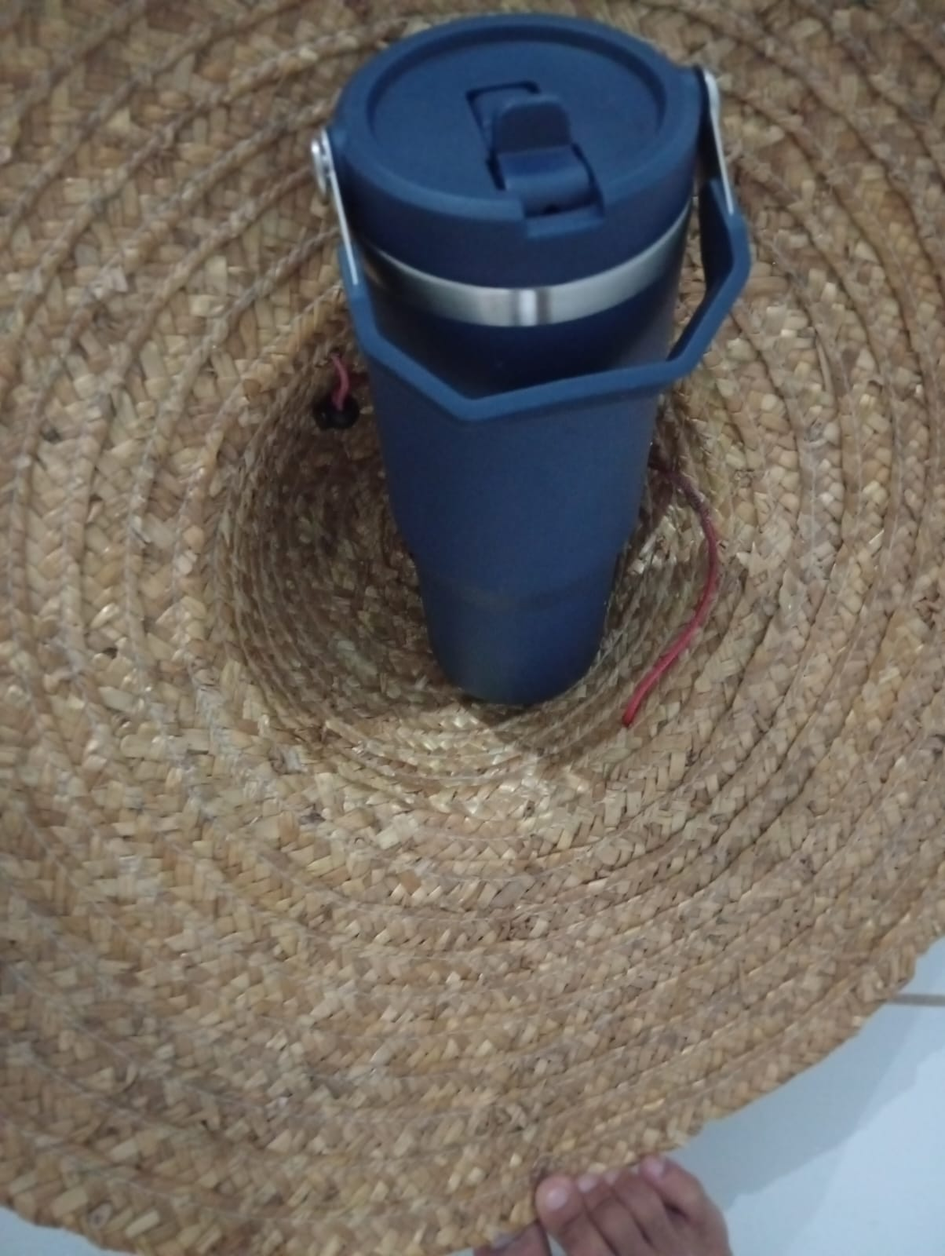Tupperware: (271, 5, 767, 714)
